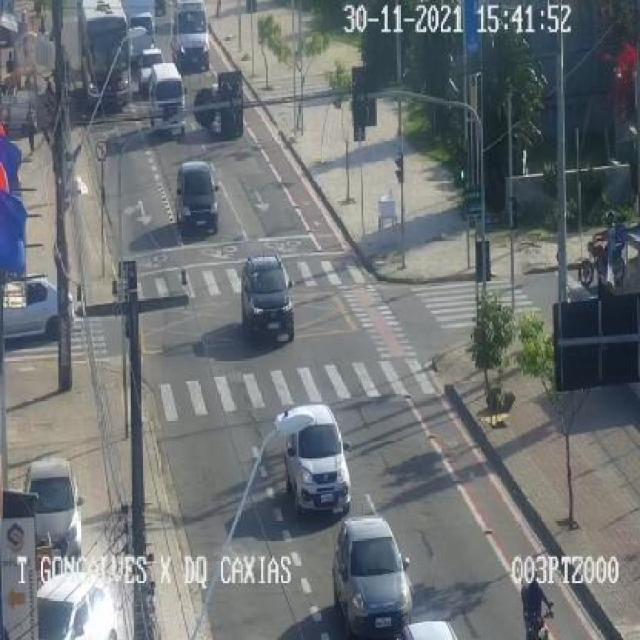Bus: (73, 1, 135, 111)
Car: (333, 519, 412, 639), (279, 404, 351, 515), (24, 459, 83, 561), (36, 574, 119, 638), (238, 254, 296, 341), (2, 275, 68, 345), (175, 160, 219, 234), (144, 63, 185, 136)
Truck: (171, 1, 210, 72)
